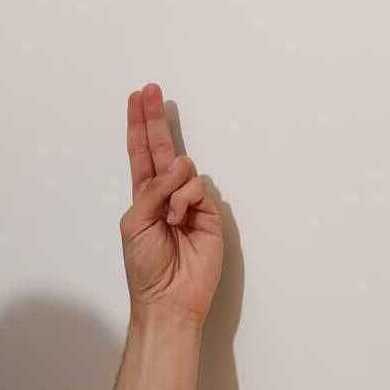U: (117, 82, 226, 316)
